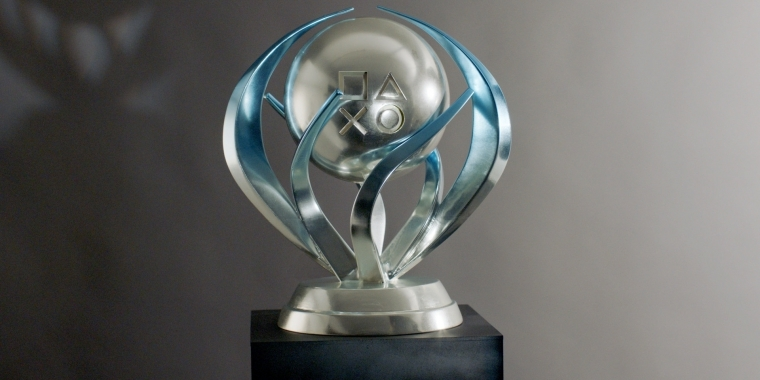trophy: (219, 6, 513, 380)
